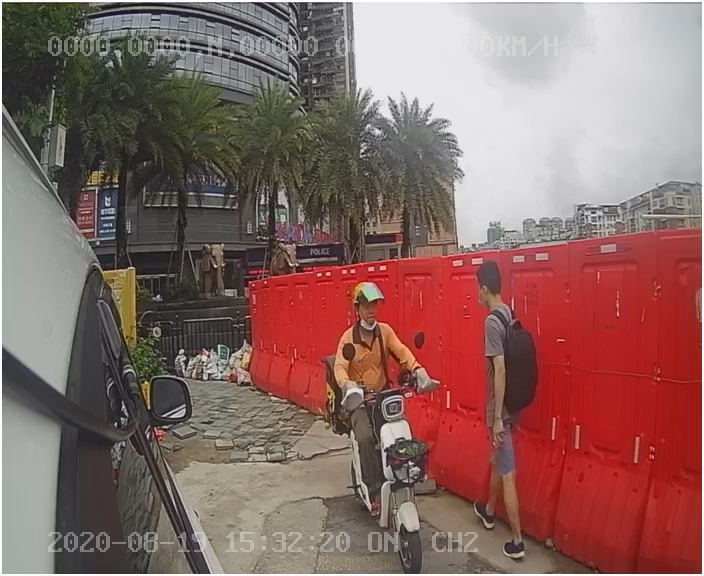person: (458, 259, 551, 567)
